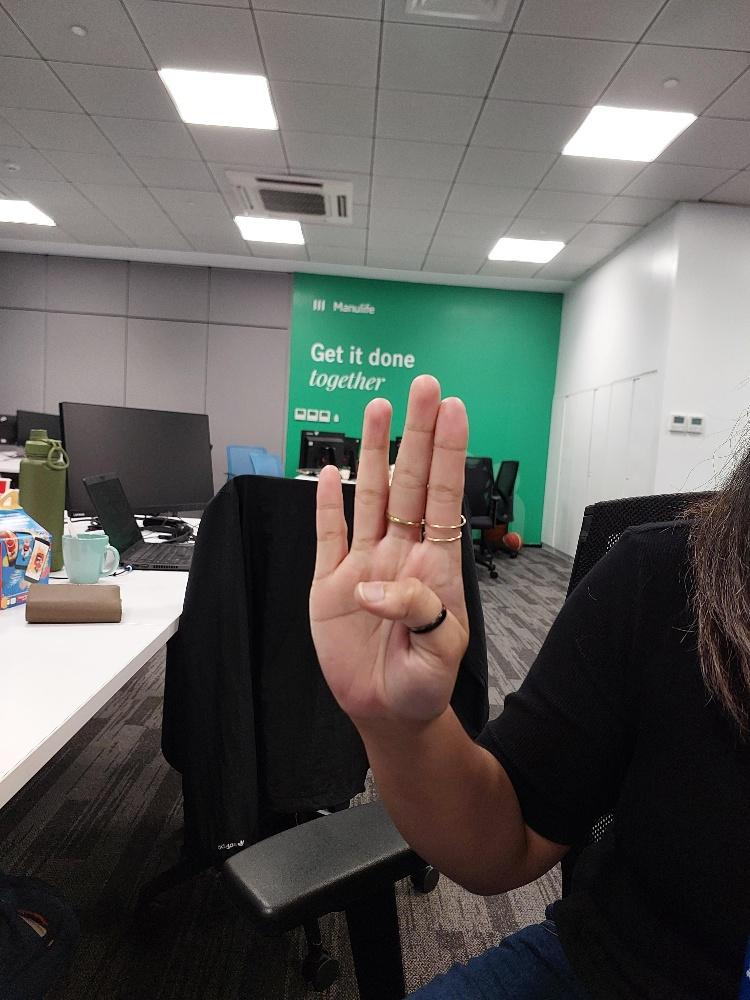b: (305, 370, 473, 725)
